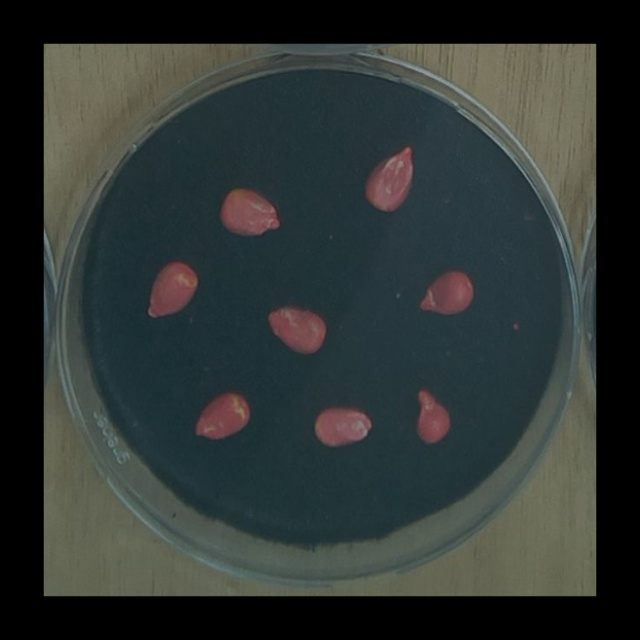Zea mays: (358, 141, 420, 218), (212, 180, 287, 243), (259, 299, 332, 363), (141, 256, 204, 326), (187, 386, 256, 448), (411, 265, 478, 323), (308, 401, 376, 454), (408, 384, 455, 452)
